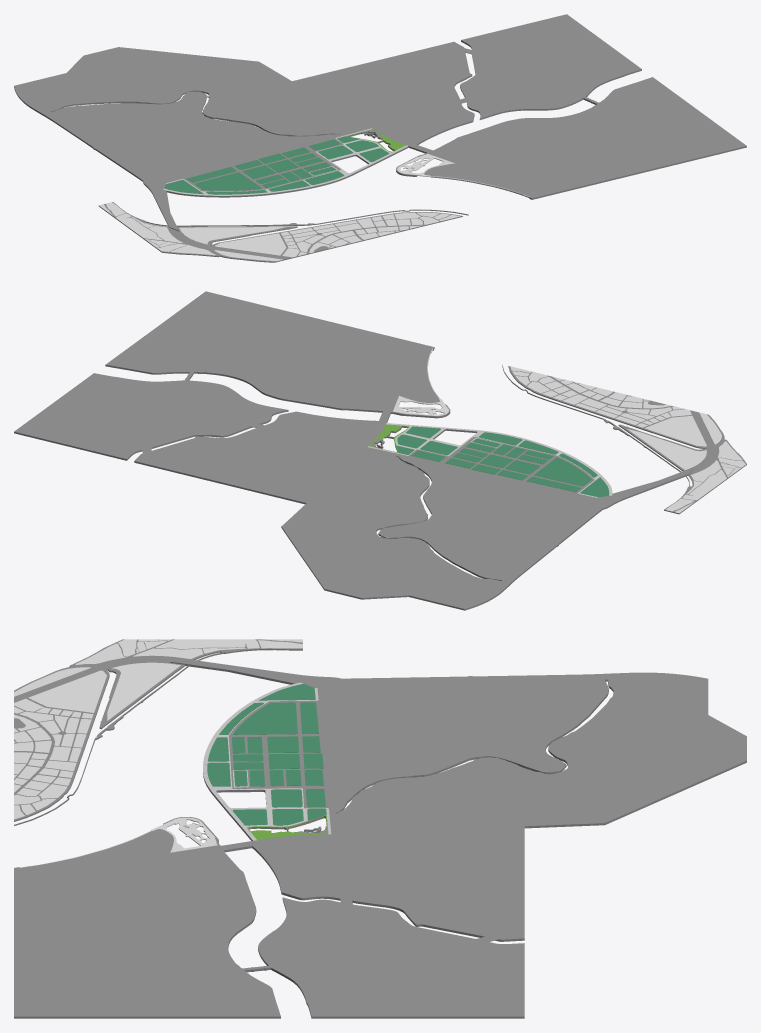
Rendered from ROAD.glb.
The picture shows the model from 3 angles, top to bottom: view 1: azimuth 30°, elevation 25°; view 2: azimuth 150°, elevation 25°; view 3: azimuth 270°, elevation 25°; orthographic projection. The views are drawn at different scales.
Visible parts, largest first — view 1: 馬路, 其他, 街廓, 人行道建模; view 2: 馬路, 其他, 街廓, 人行道建模; view 3: 馬路, 其他, 街廓, 人行道建模.
Part boxes in pixels (x1,y1,x2,y2): 馬路: (75,14,746,262); 其他: (14,47,468,231); 街廓: (99,136,529,261); 人行道建模: (163,128,408,195); 馬路: (14,291,746,559); 其他: (251,364,692,610); 街廓: (393,348,745,513); 人行道建模: (367,423,612,497); 馬路: (14,639,524,1018); 其他: (14,652,746,904); 街廓: (14,639,326,867); 人行道建模: (203,682,331,840).
Size of the model in its own units: 3249 by 9.6 by 2662.
